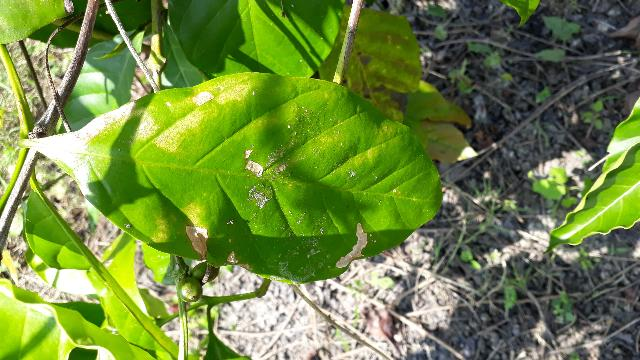healthy: (28, 72, 441, 276)
